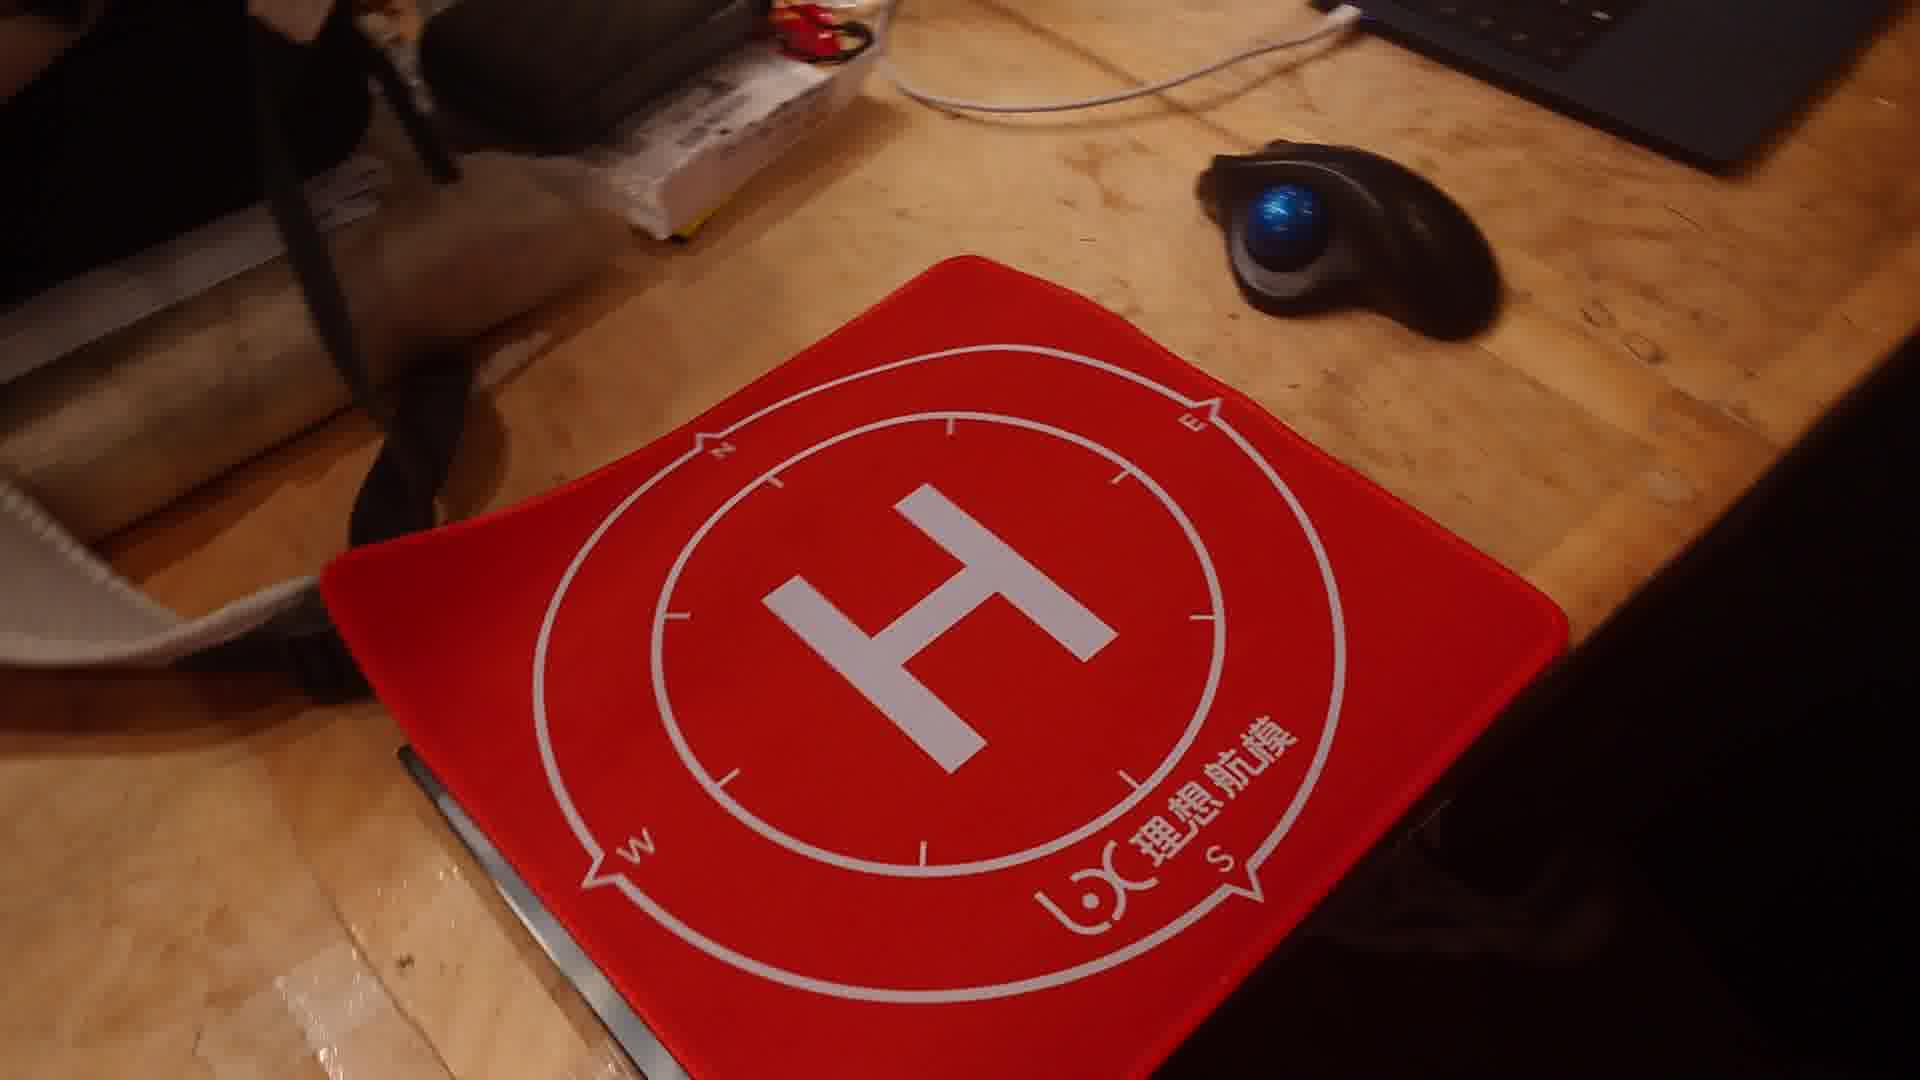H: (760, 481, 1124, 781)
